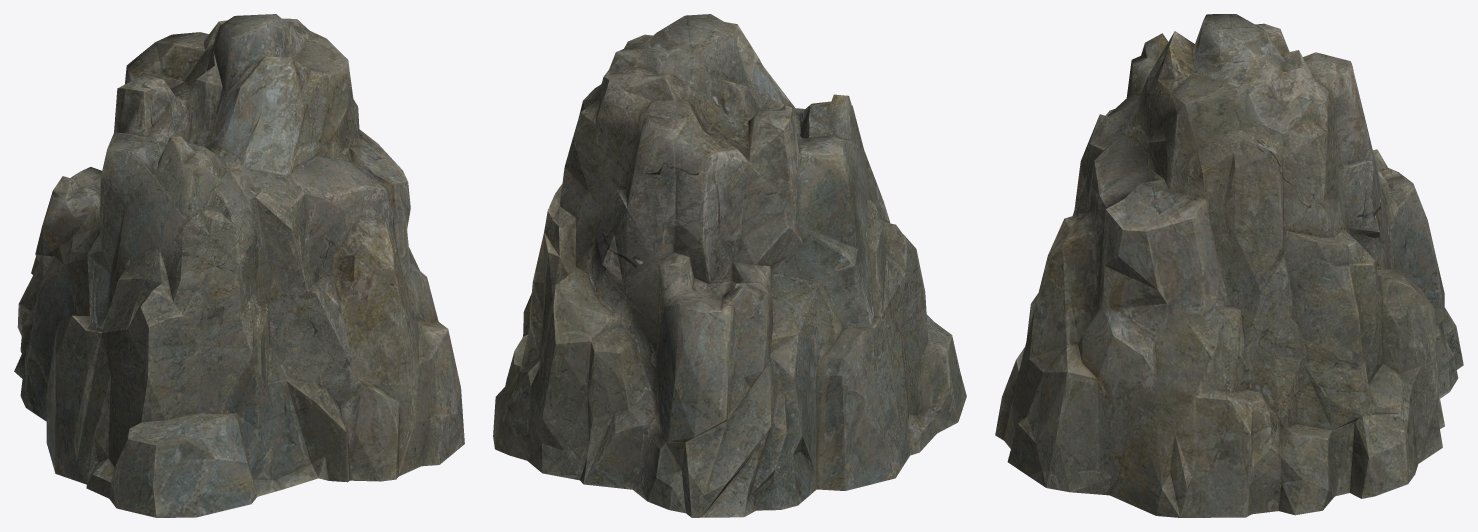
The model's file is bg_anh_stone_commonstone01_sm_sup.FBX.
3 renders of one model, left to right at view 1: azimuth 30°, elevation 25°; view 2: azimuth 150°, elevation 25°; view 3: azimuth 270°, elevation 25°, orthographic. The views are drawn at different scales.
Visible parts, largest first — view 1: bg_anh_stone_commonstone01_sm_sup; view 2: bg_anh_stone_commonstone01_sm_sup; view 3: bg_anh_stone_commonstone01_sm_sup.
Part boxes in pixels (x1,y1,x2,y2): bg_anh_stone_commonstone01_sm_sup: (14, 14, 464, 517); bg_anh_stone_commonstone01_sm_sup: (493, 14, 966, 517); bg_anh_stone_commonstone01_sm_sup: (995, 14, 1463, 517).
Size of the model in its own units: 232 by 246 by 247.
